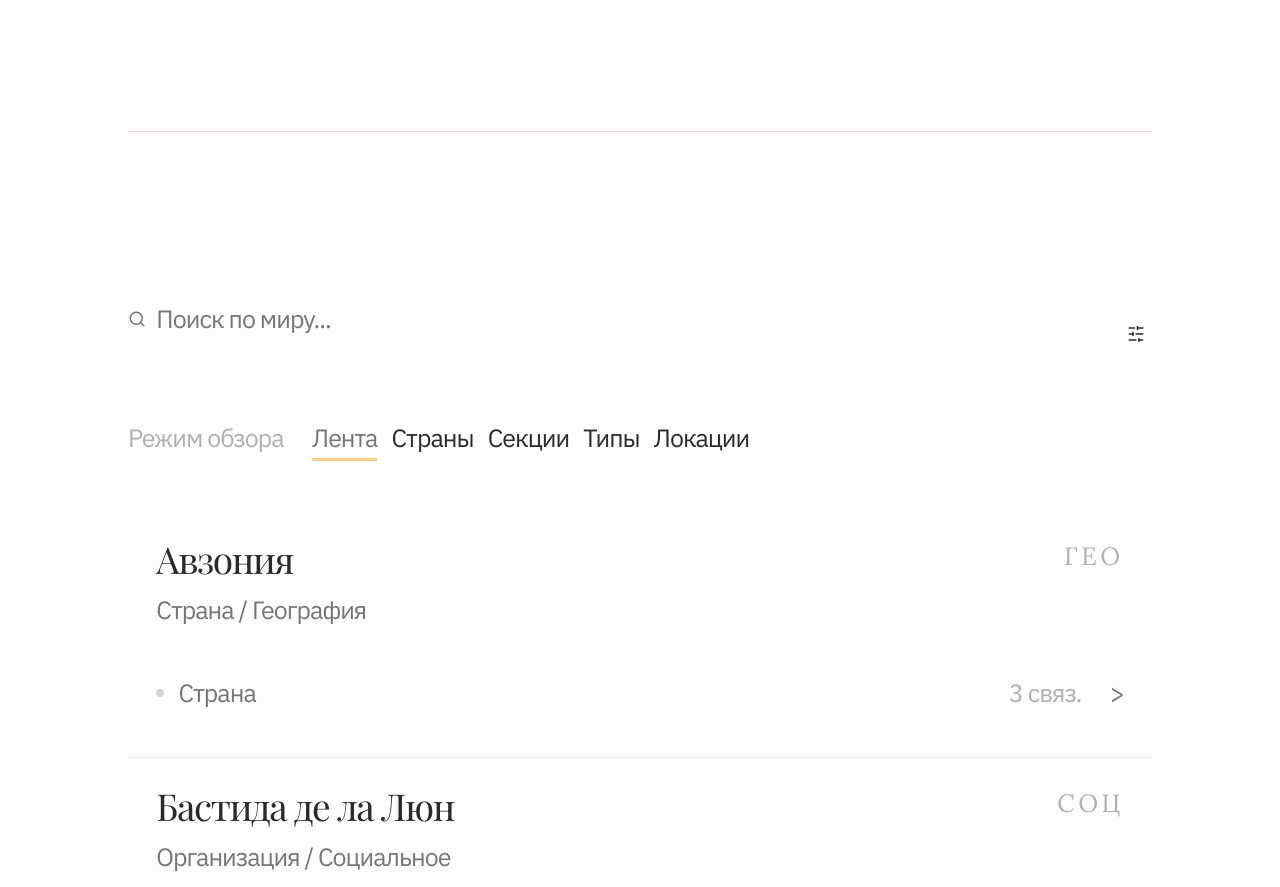
Test: AtlasPage catalog smoke › supports grouped atlas views without duplicating list rows outside the result area
(page scrolled)
Click the button "Страны": click(433, 438) [392,421,474,455]
(page scrolled)
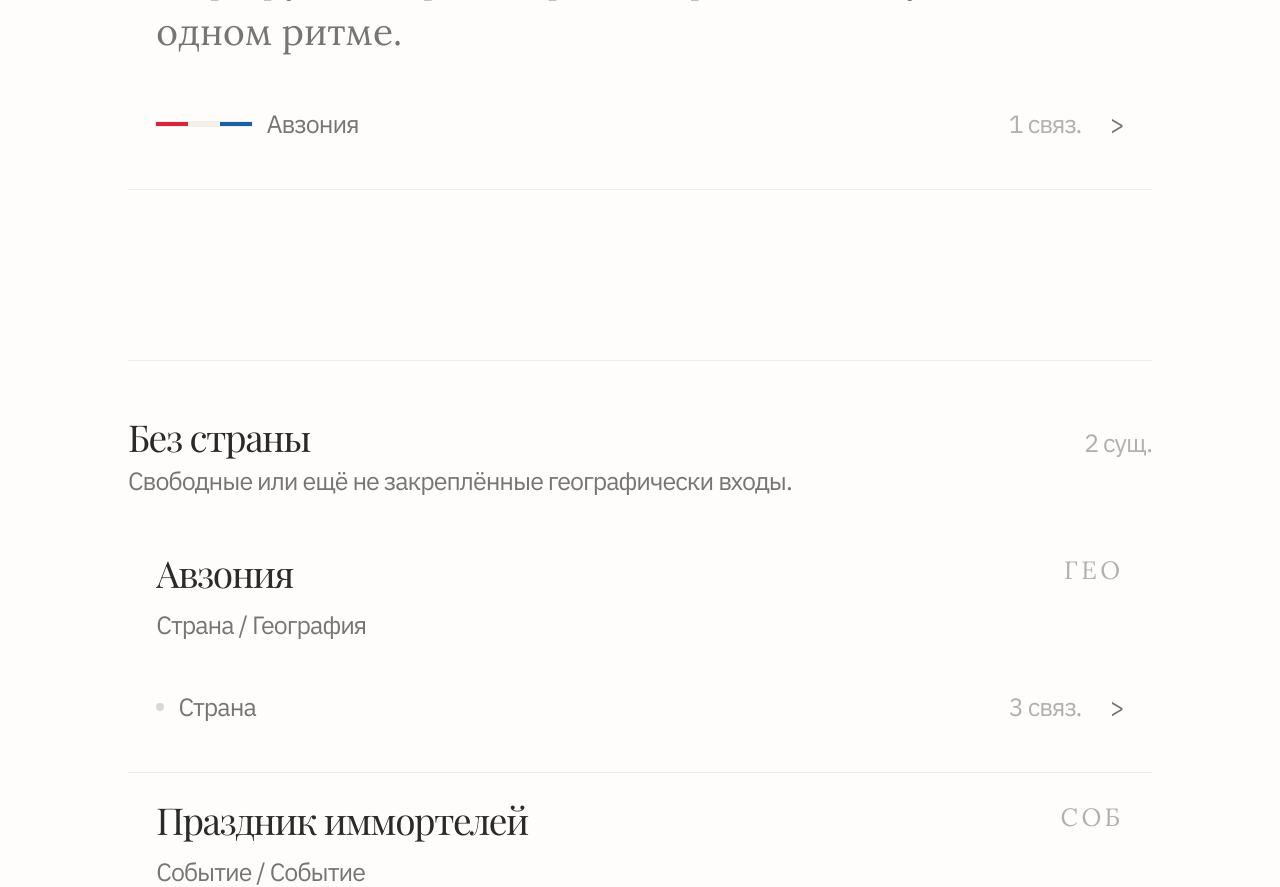
Expected: the heading "Без страны" is shown, [128,412,310,461]
